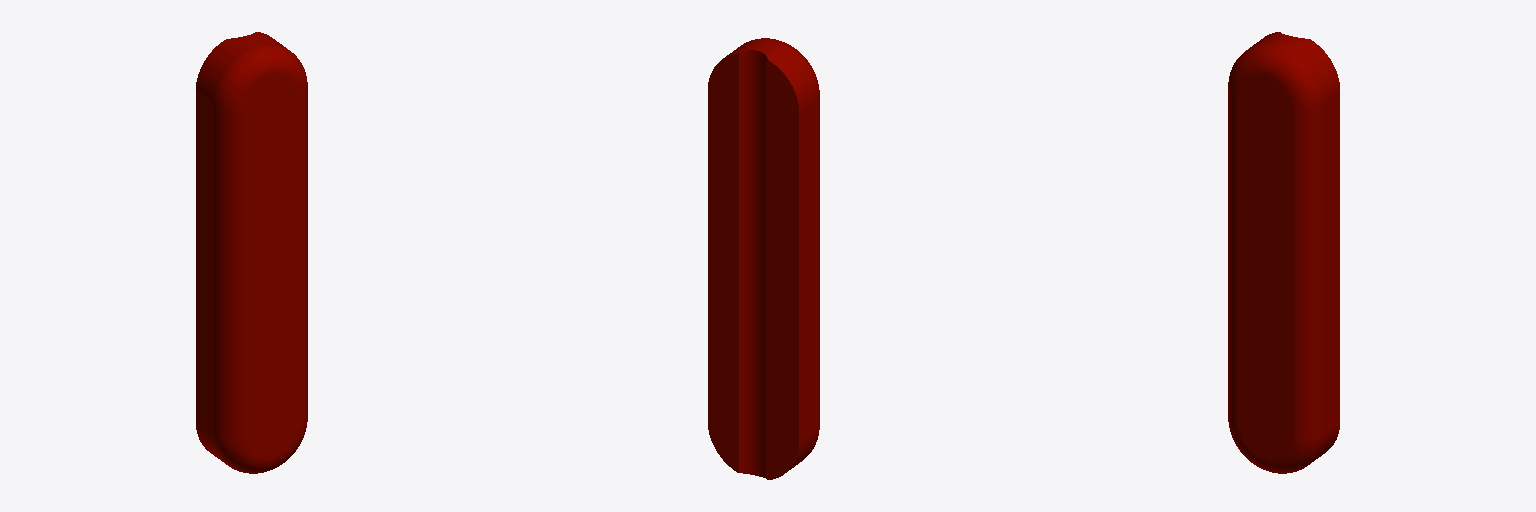
File: left_armrest_visual.obj
3 views of the same model, side by side, from view 1: azimuth 30°, elevation 25°; view 2: azimuth 150°, elevation 25°; view 3: azimuth 330°, elevation 25° (orthographic).
Parts seen in each view (by area): view 1: left_armrest_visual.001; view 2: left_armrest_visual.001; view 3: left_armrest_visual.001.
Part boxes in pixels (x1,y1,x2,y2): left_armrest_visual.001: (196,32,307,473); left_armrest_visual.001: (708,38,819,479); left_armrest_visual.001: (1228,32,1339,473).
Bounding box in the file's own units: 0.0572 × 0.254 × 0.0319.